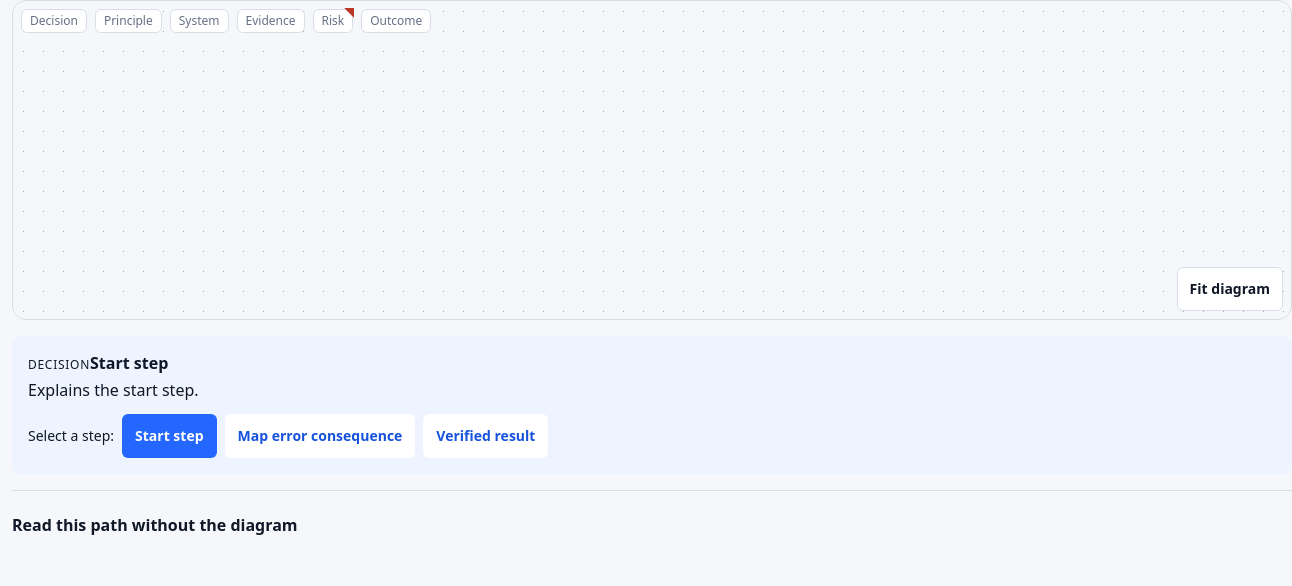
DiagramFrame › selects a node by keyboard and syncs the inspector text
Expected: the text "Start step" is shown, [90, 352, 168, 374]
Click the button "Map error consequence" at (320, 436), box [224, 414, 415, 458]
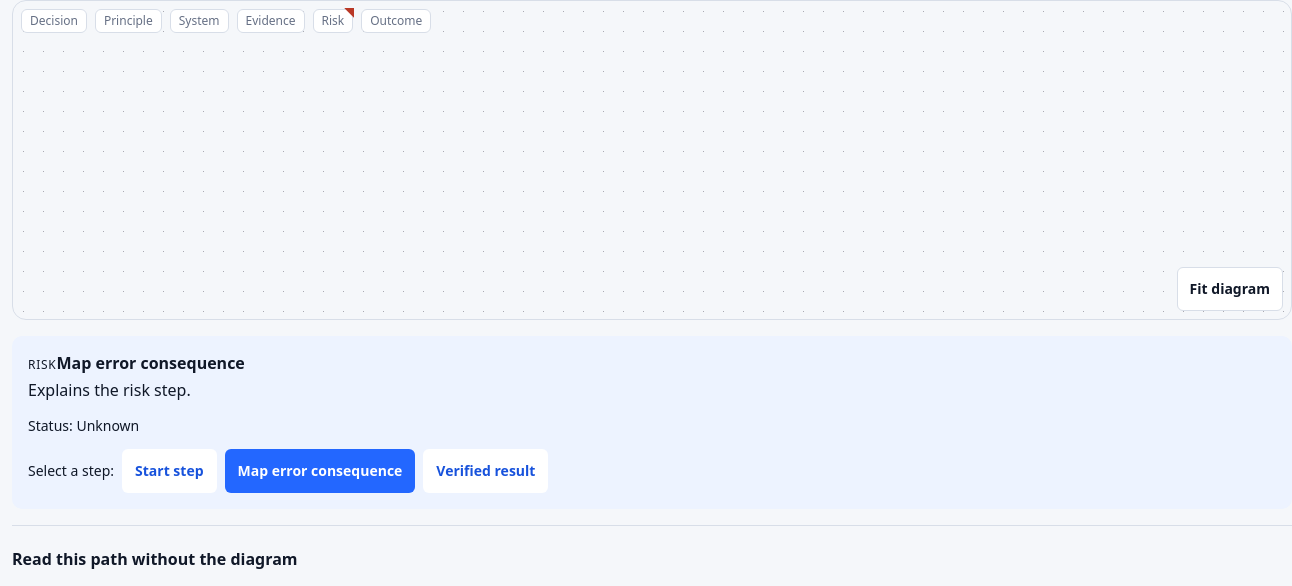
Now the text "Map error consequence" is shown, box [56, 352, 245, 374]
Now the text "Explains the risk step." is shown, box [28, 379, 191, 401]
